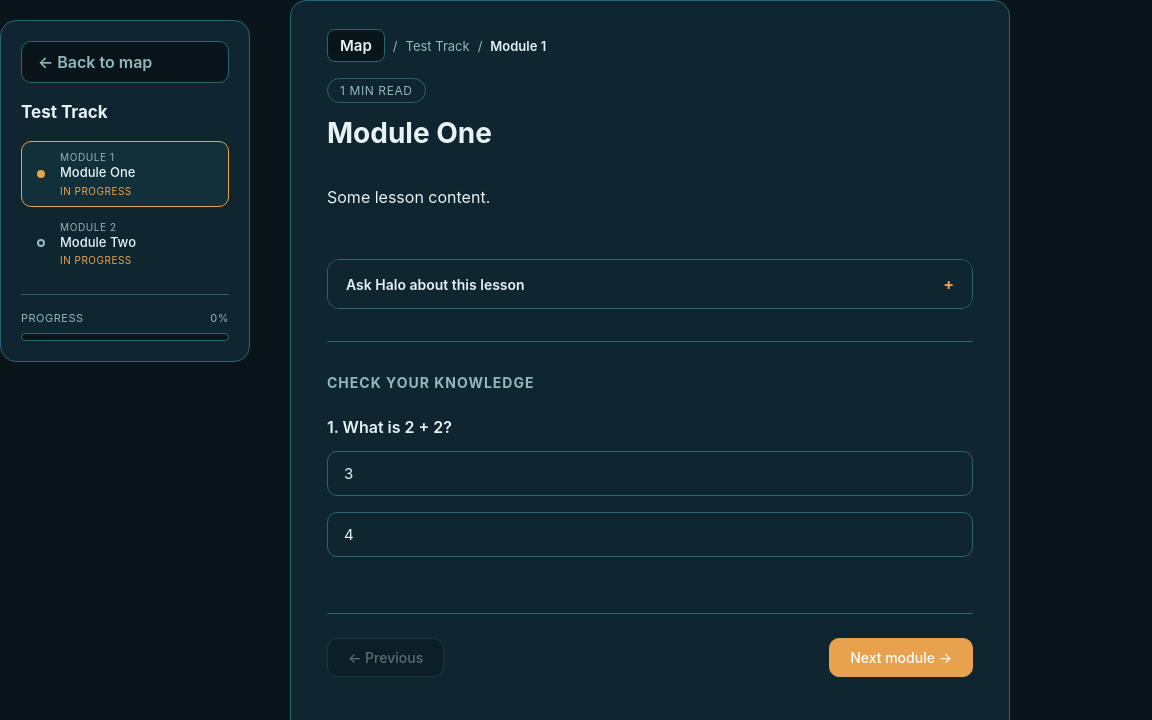
Scenario: ModuleLayout quiz › locks in the answer so options cannot be changed after answering
Step 1. Click the button "3" → point(349, 474), box [327,451,973,496]
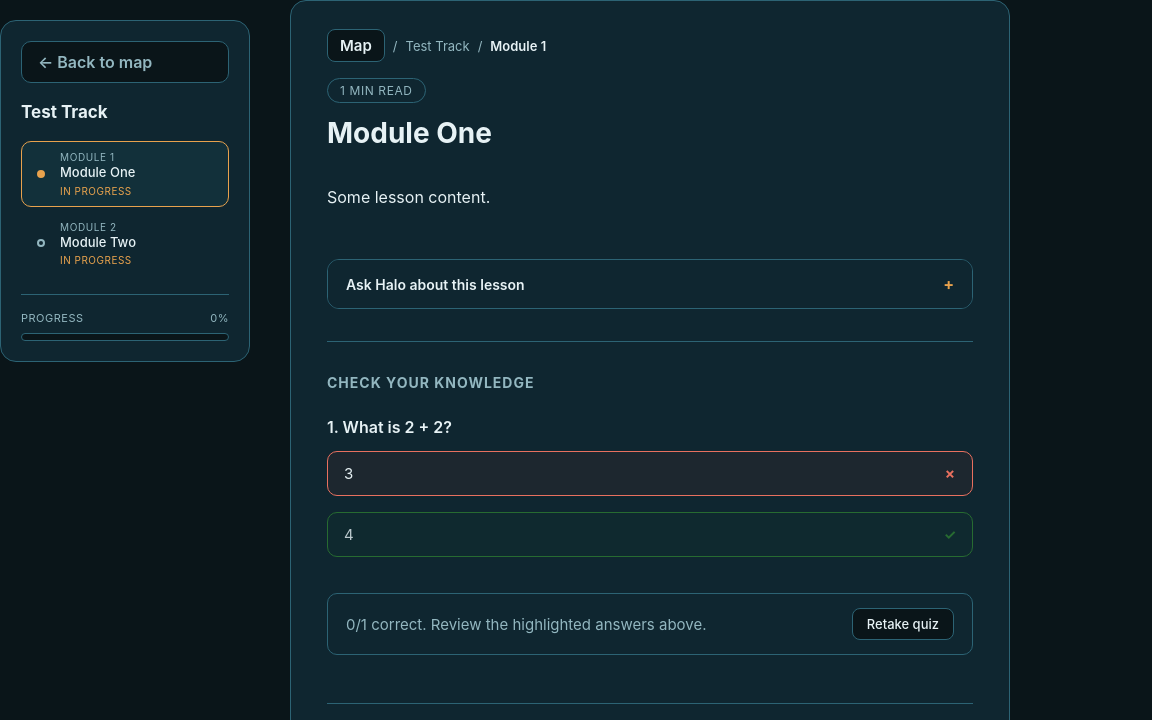
Now the button named "3✗" is disabled, box [327,451,973,496]
Now the button named "4✓" is disabled, box [327,512,973,557]
